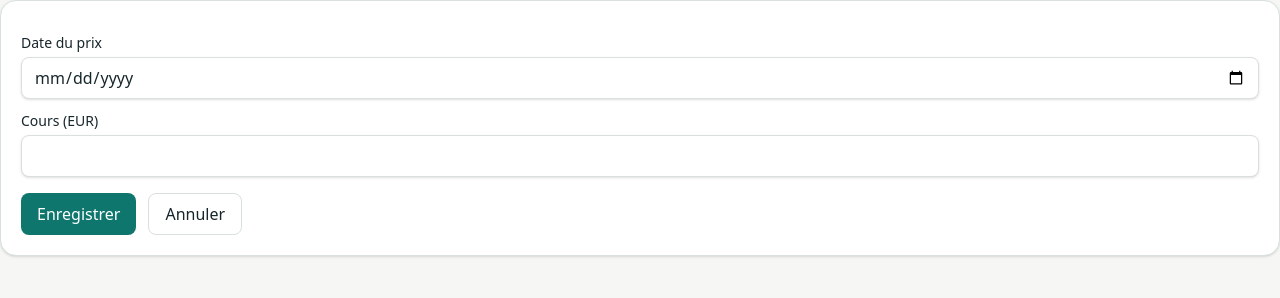
it: erreurs du serveur › place l’erreur du serveur sur le champ concerné
In the date field labelled "Date du prix": {"x": 640, "y": 78} [21,57,1259,99], type "2026-10-20"
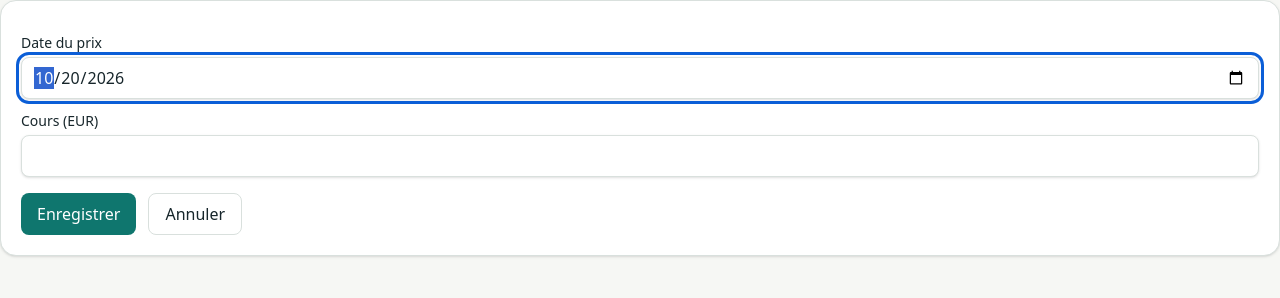
In the field labelled "Cours (EUR)": {"x": 640, "y": 156} [21,135,1259,177], type "5"
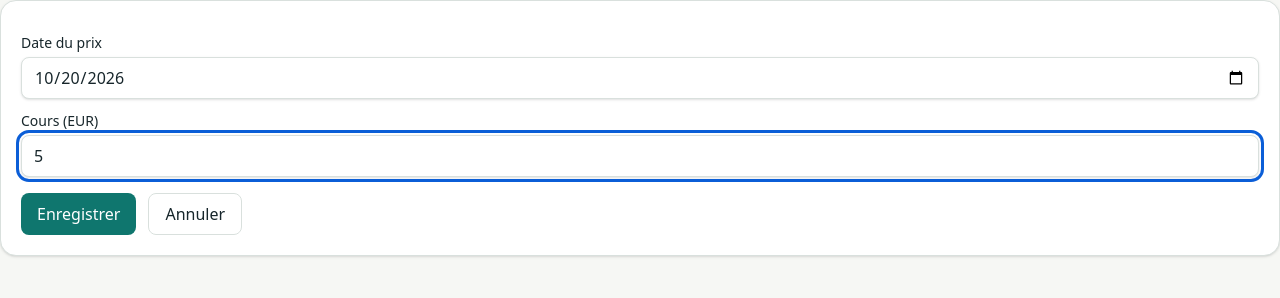
Click the button "Enregistrer": {"x": 79, "y": 214} [21,193,136,235]
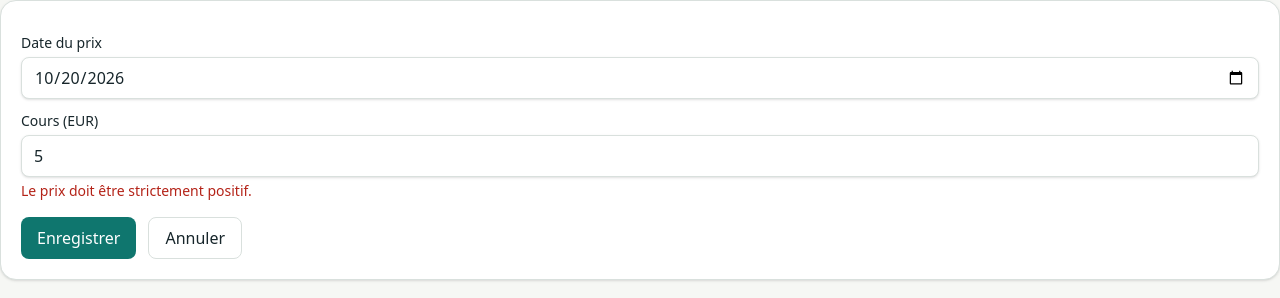
Now the text "Le prix doit être strictement positif." is shown, box [21,181,252,200]
